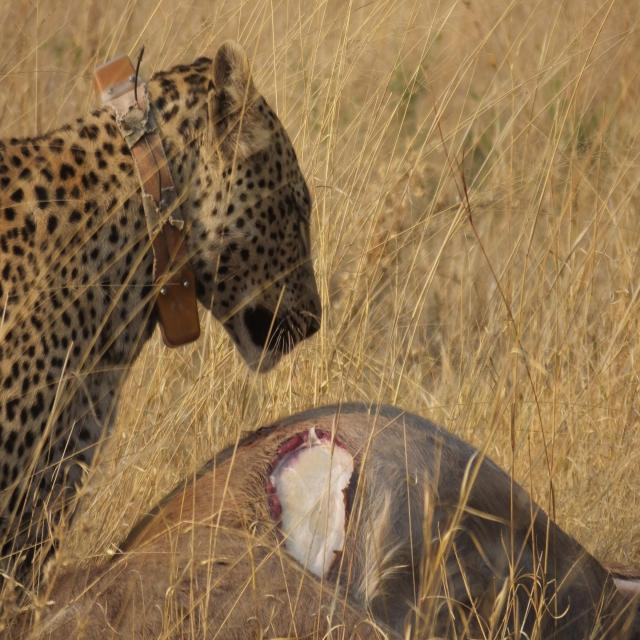Leopard: (0, 49, 328, 635)
